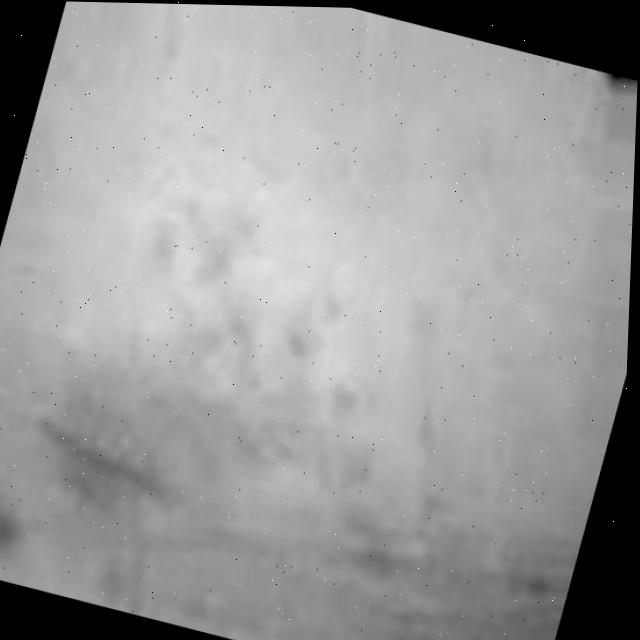Shingles: (54, 259, 345, 557)
